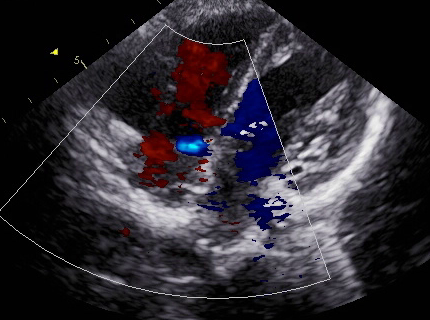TR: (167, 123, 225, 172)
